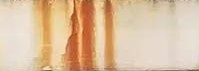Corrosion: (33, 1, 52, 71), (61, 1, 79, 71), (80, 1, 96, 71), (103, 1, 116, 71)
